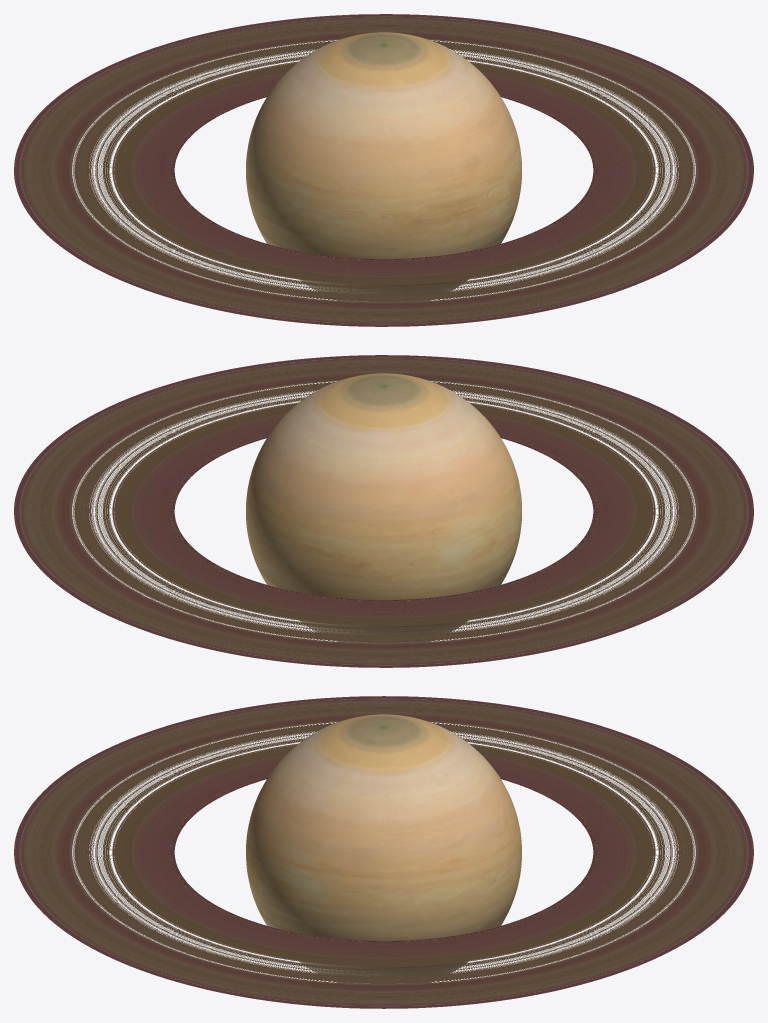
Rendered from saturn.glb.
3 views of the same model, one above another, from view 1: azimuth 30°, elevation 25°; view 2: azimuth 150°, elevation 25°; view 3: azimuth 270°, elevation 25° (orthographic).
Parts seen in each view (by area): view 1: Object_8, Object_6; view 2: Object_8, Object_6; view 3: Object_8, Object_6.
Part boxes in pixels (left/top/right/bottom): Object_8: left=14, top=14, right=753, bottom=326; Object_6: left=246, top=32, right=521, bottom=302; Object_8: left=14, top=355, right=753, bottom=667; Object_6: left=246, top=373, right=521, bottom=643; Object_8: left=14, top=696, right=753, bottom=1008; Object_6: left=246, top=714, right=521, bottom=984.
Size of the model in its own units: 11.5 by 4.29 by 11.5.
2 materials, 2 textured.
